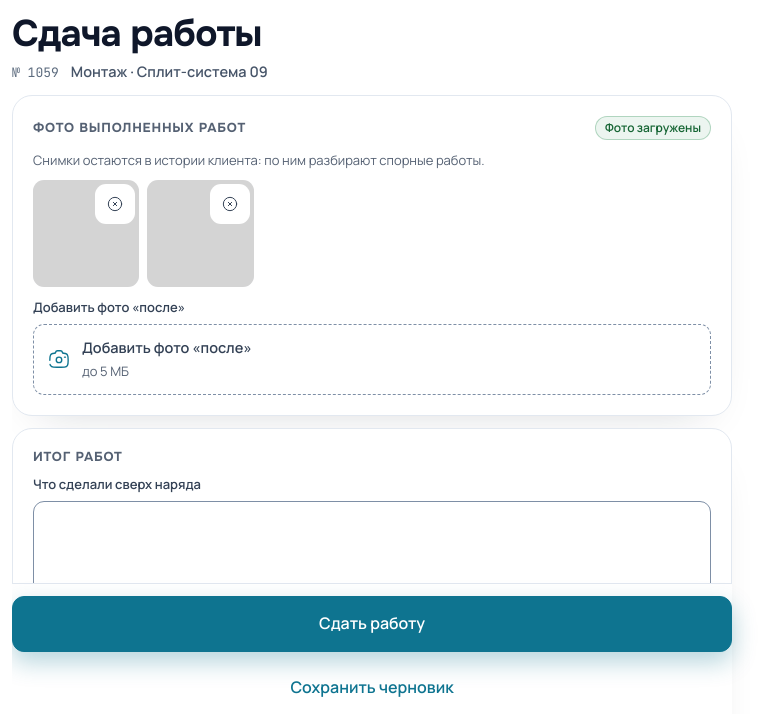
it: Сдача работы › 🔴 отказ на статусе не теряет отчёт: итог уже записан
The image size is (762, 714).
Click the button "Сдать работу": {"x": 372, "y": 624} [12,596,732,652]
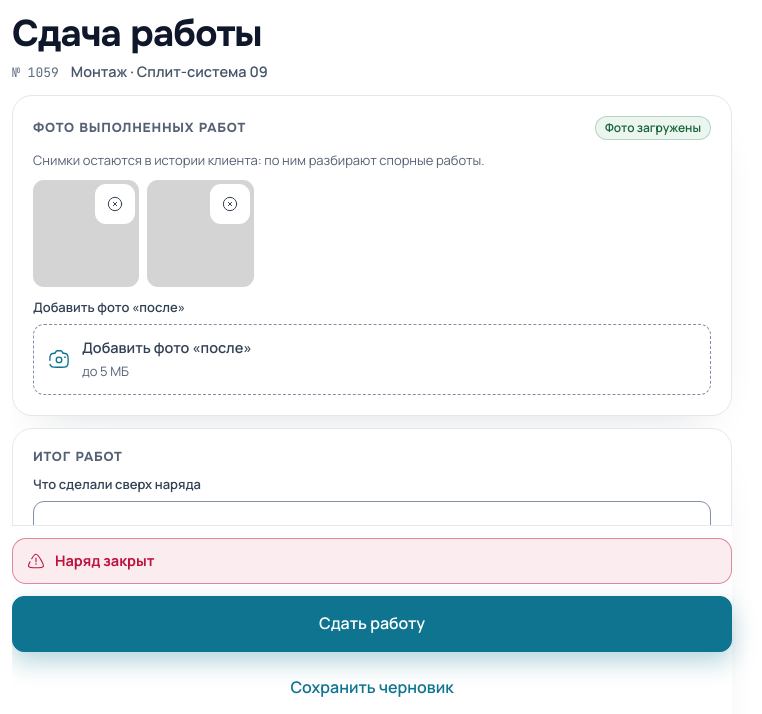
Check: the message reads "Наряд закрыт", box [55,551,154,570]
